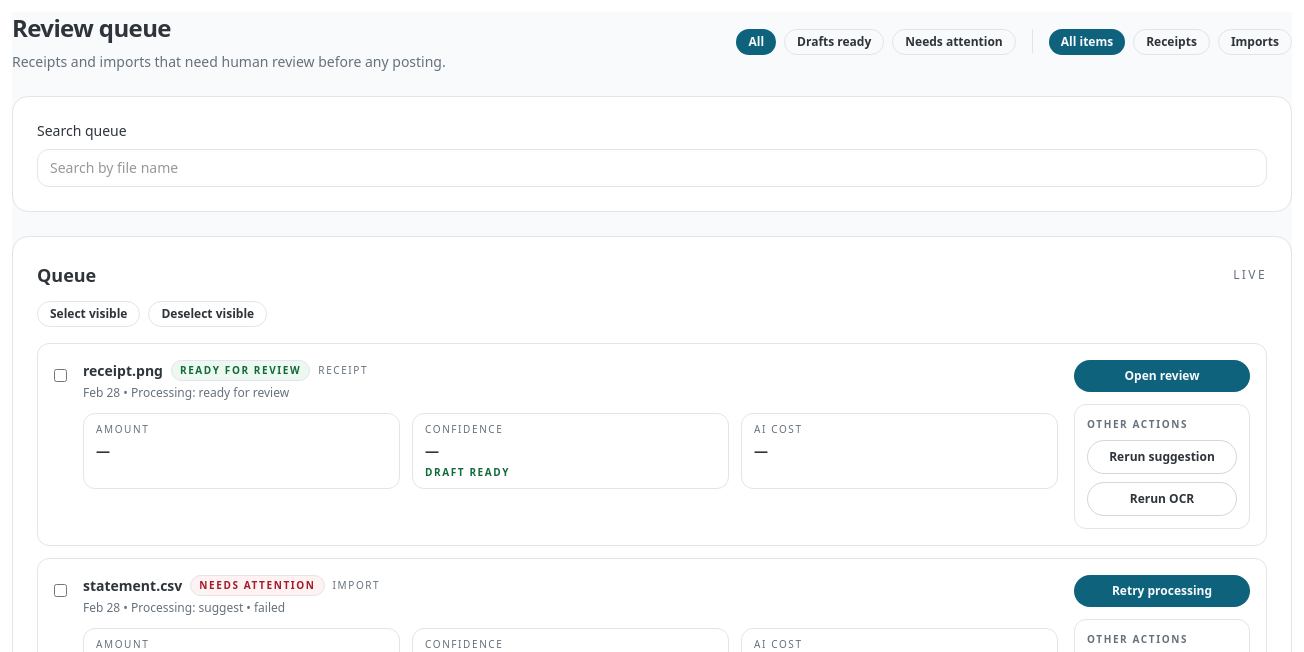
Scenario: Review queue page › runs a bulk review action on the selected queue items
Expected: the text "receipt.png" is shown, [83,360,163,380]
What coordinates should you click on to do the following:
click the button "Select visible"
I would click on:
 (89, 314)
Its box is [37,301,140,327].
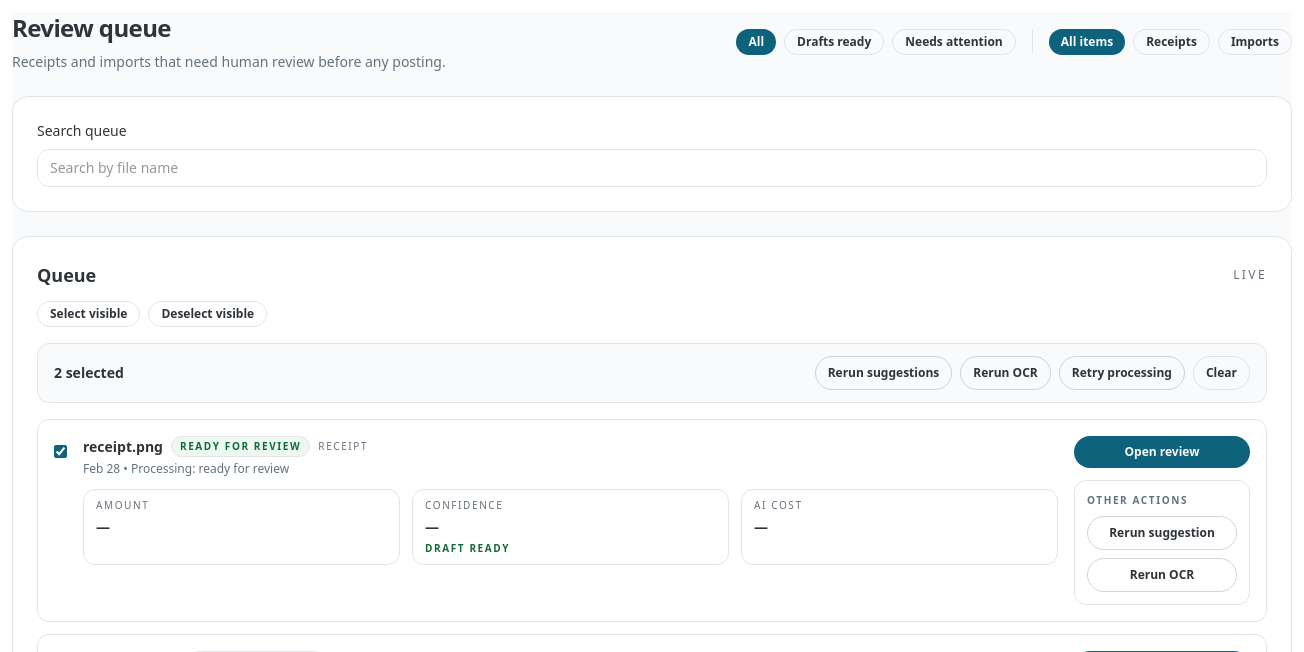
What coordinates should you click on to do the following:
click the button "Rerun suggestions"
I would click on:
 (884, 373)
Its box is [815,356,952,390].
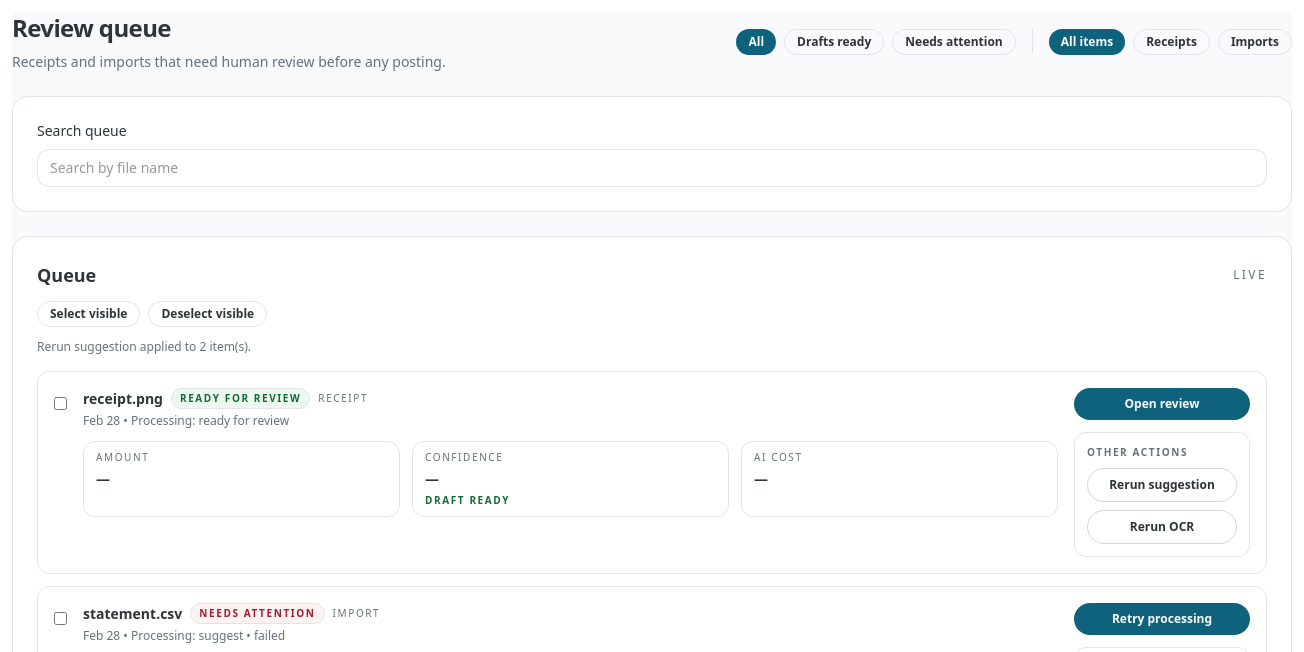
Now the text "Rerun suggestion applied to 2 item(s)." is shown, box [37,338,251,355]
